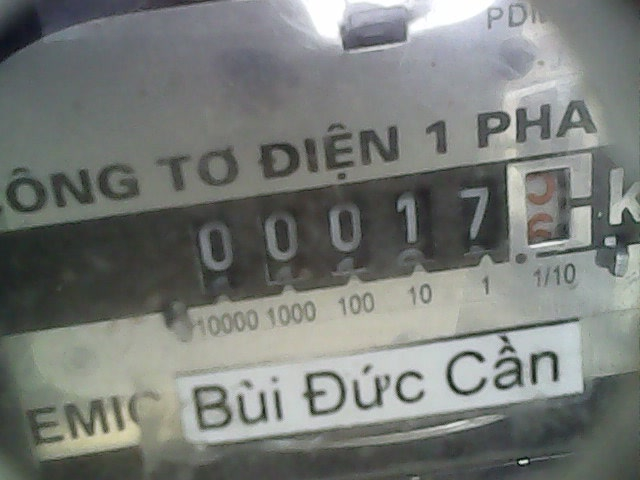phy_plate: (182, 149, 600, 286)
